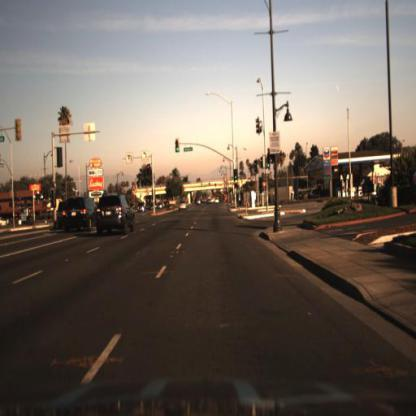car: (94, 190, 138, 236), (64, 189, 100, 234), (61, 194, 97, 235), (54, 205, 64, 230), (178, 200, 190, 215)
trafficLight-Green: (265, 151, 273, 174), (233, 168, 241, 186), (232, 168, 238, 184), (267, 157, 273, 173), (176, 137, 181, 154)
trafficLight-Red: (146, 164, 151, 182)
